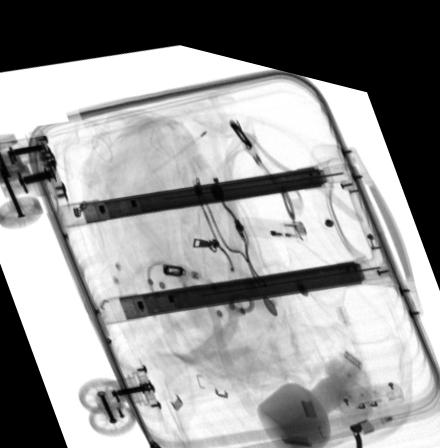Lighter: (241, 202, 306, 227)
